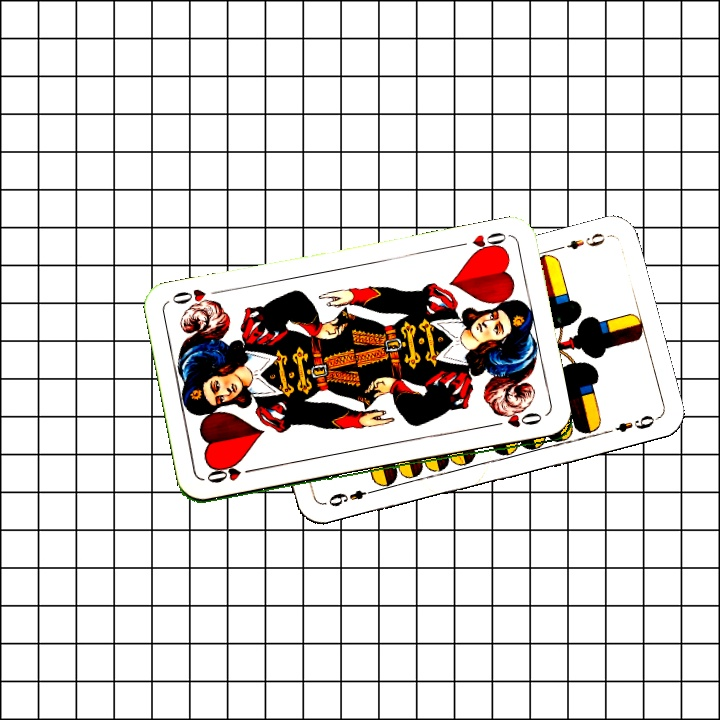E9: (320, 485, 379, 510), (552, 229, 611, 253)
HO: (466, 228, 511, 258), (202, 463, 260, 486)
